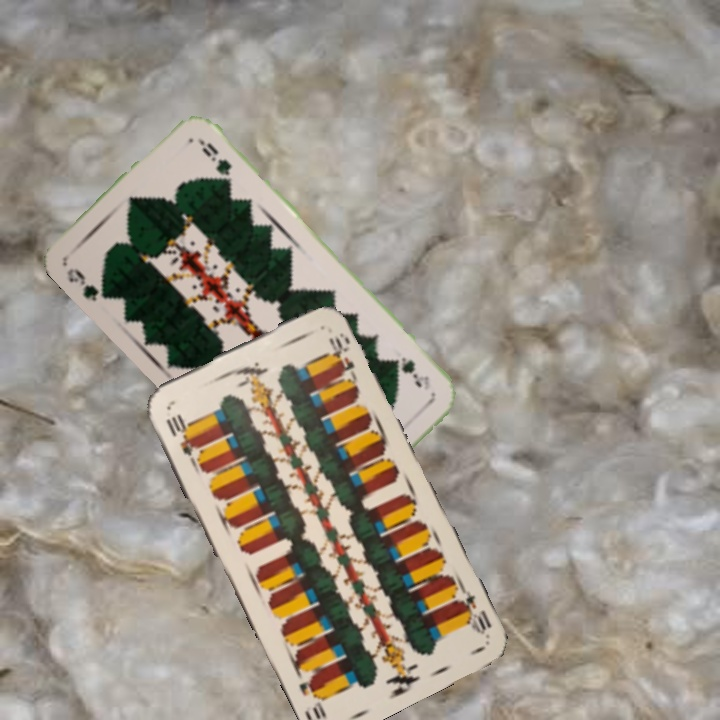E10: (454, 583, 495, 638), (161, 410, 199, 459)
G9: (62, 263, 111, 304), (391, 352, 433, 393)
